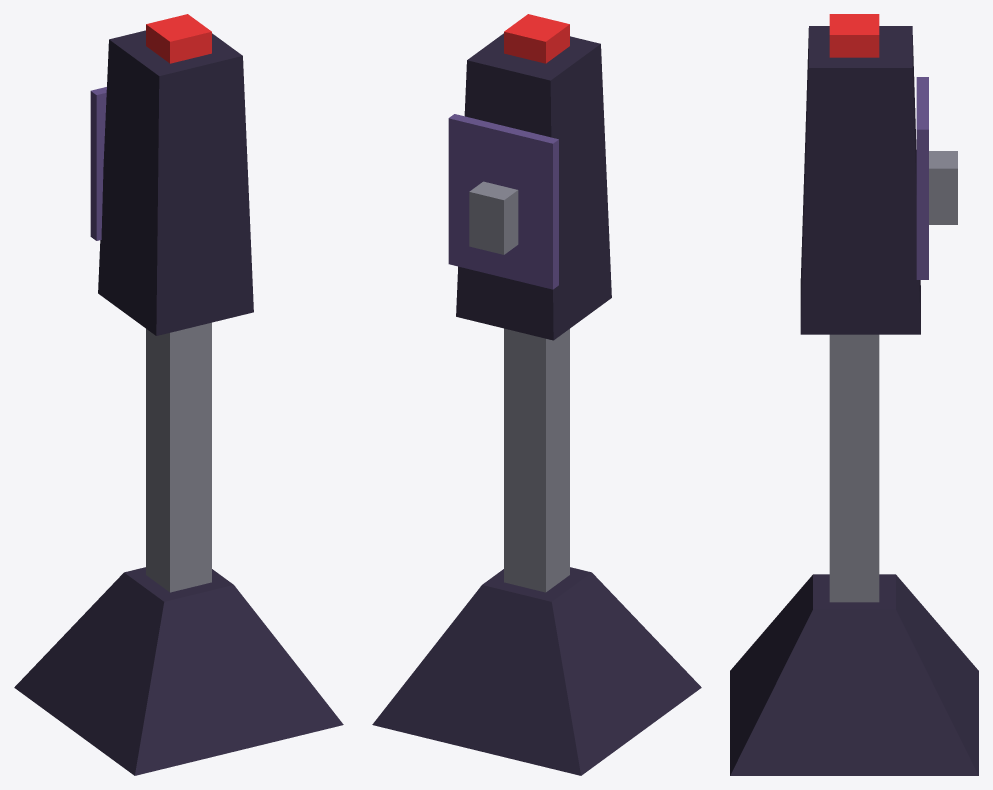
Rendered from cabina_palanca.obj.
3 views of the same model, side by side, from view 1: azimuth 30°, elevation 25°; view 2: azimuth 150°, elevation 25°; view 3: azimuth 270°, elevation 25° (orthographic). The views are drawn at different scales.
Parts seen in each view (by area): view 1: bota, mango, eje, boton_rojo, mango_dedos; view 2: bota, mango, eje, mango_dedos, gatillo, boton_rojo; view 3: bota, mango, eje, mango_dedos, boton_rojo, gatillo.
Part boxes in pixels (x1,y1,x2,y2): bota: (14, 567, 343, 775); mango: (98, 30, 253, 335); eje: (146, 322, 211, 592); boton_rojo: (146, 14, 211, 63); mango_dedos: (90, 87, 106, 240); bota: (372, 567, 701, 775); mango: (456, 33, 611, 340); eje: (504, 328, 569, 592); mango_dedos: (448, 114, 558, 289); gatillo: (469, 181, 518, 254); boton_rojo: (504, 14, 569, 63); bota: (730, 574, 978, 775); mango: (800, 26, 920, 334); eje: (829, 334, 879, 602); mango_dedos: (916, 77, 928, 279); boton_rojo: (829, 14, 879, 57); gatillo: (929, 151, 957, 224).
Bounding box in the file's own units: 0.12 × 0.372 × 0.12.
